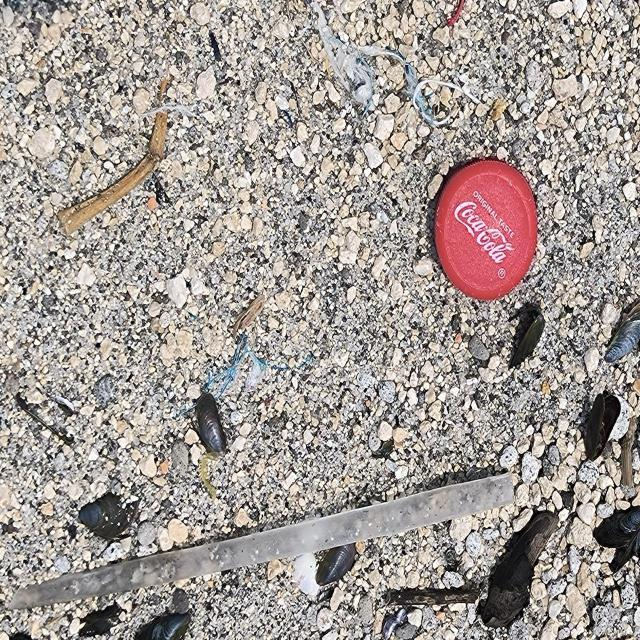plastic_waste: (6, 470, 518, 617), (434, 156, 540, 302)
